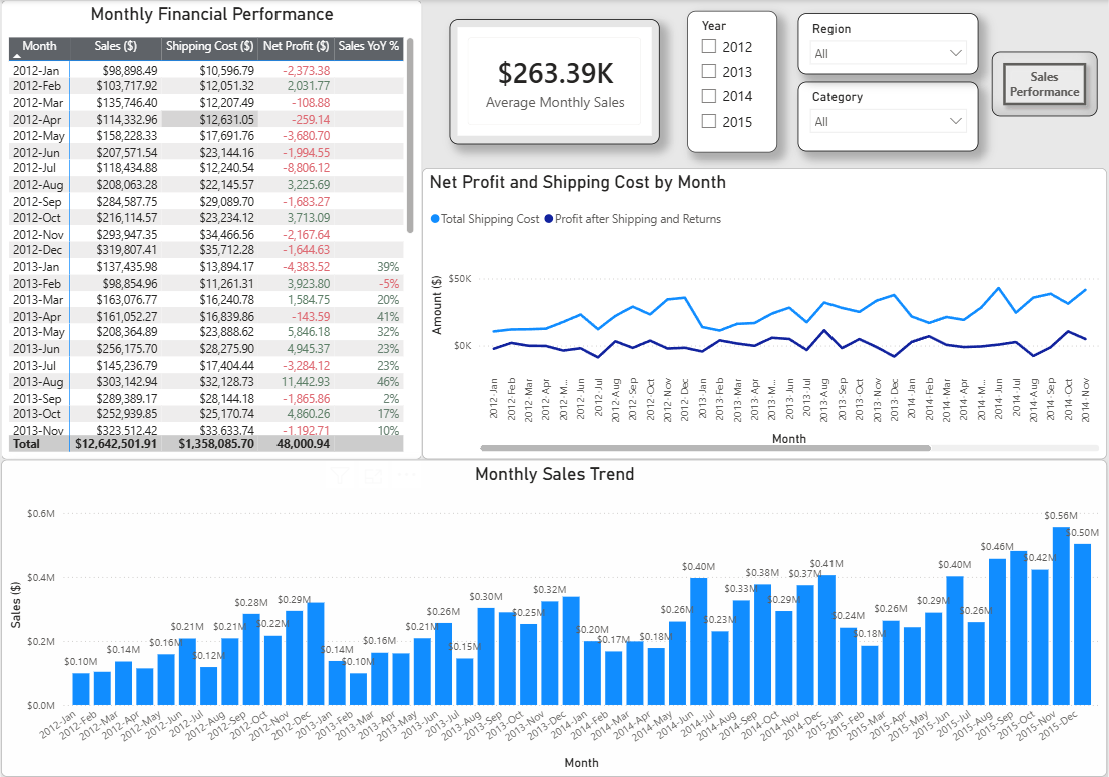

Layout of this report page (visuals, bound fields, positions):
{"tool":"powerbi","page":{"name":"Monthly Analysis","canvas":[1280,900],"ordinal":1},"visuals":[{"type":"pivotTable","title":"Monthly Financial Performance","fields":{"Rows":["DimDate.YearMonthName"],"Values":["_Measures.Total Sales","_Measures.Total Shipping Cost","_Measures.Profit after Shipping and Returns","_Measures.Sales YoY %"]},"box":[0,0,486.6,532.5],"z":0},{"type":"slicer","fields":{"Values":["DimDate.Year"]},"box":[793.8,12.5,104.3,164.1],"z":1000},{"type":"slicer","fields":{"Values":["Products.Category"]},"box":[921.7,94.5,208.5,80.6],"z":2000},{"type":"slicer","fields":{"Values":["Address.Region"]},"box":[921.7,15.3,208.5,70.9],"z":3000},{"type":"clusteredColumnChart","title":"Monthly Sales Trend","fields":{"Category":["DimDate.YearMonthName"],"Y":["_Measures.Total Sales"]},"box":[0,532.5,1279.3,367.1],"z":4000},{"type":"lineChart","title":"Net Profit and Shipping Cost by Month","fields":{"Category":["DimDate.YearMonthName"],"Y":["_Measures.Total Shipping Cost","_Measures.Profit after Shipping and Returns"]},"box":[486.6,194.6,792.5,337.8],"z":5000},{"type":"cardVisual","fields":{"Data":["_Measures.Average Monthly Sales"]},"box":[518.6,22.2,243.3,144.6],"z":6000},{"type":"actionButton","box":[1145.6,59.8,122.3,75.1],"z":7000}]}

Visuals, with their boxes in screenshot pixels (x1, y1, x2, y2), scaled from the page's 1280x900 canvas onto the 1109x777 screenshot:
"Monthly Financial Performance" pivotTable: {"x1": 0, "y1": 0, "x2": 422, "y2": 460}
slicer - DimDate.Year: {"x1": 688, "y1": 11, "x2": 778, "y2": 152}
slicer - Products.Category: {"x1": 799, "y1": 82, "x2": 979, "y2": 151}
slicer - Address.Region: {"x1": 799, "y1": 13, "x2": 979, "y2": 74}
"Monthly Sales Trend" clusteredColumnChart: {"x1": 0, "y1": 460, "x2": 1108, "y2": 776}
"Net Profit and Shipping Cost by Month" lineChart: {"x1": 422, "y1": 168, "x2": 1108, "y2": 460}
cardVisual - _Measures.Average Monthly Sales: {"x1": 449, "y1": 19, "x2": 660, "y2": 144}
actionButton: {"x1": 993, "y1": 52, "x2": 1099, "y2": 116}
